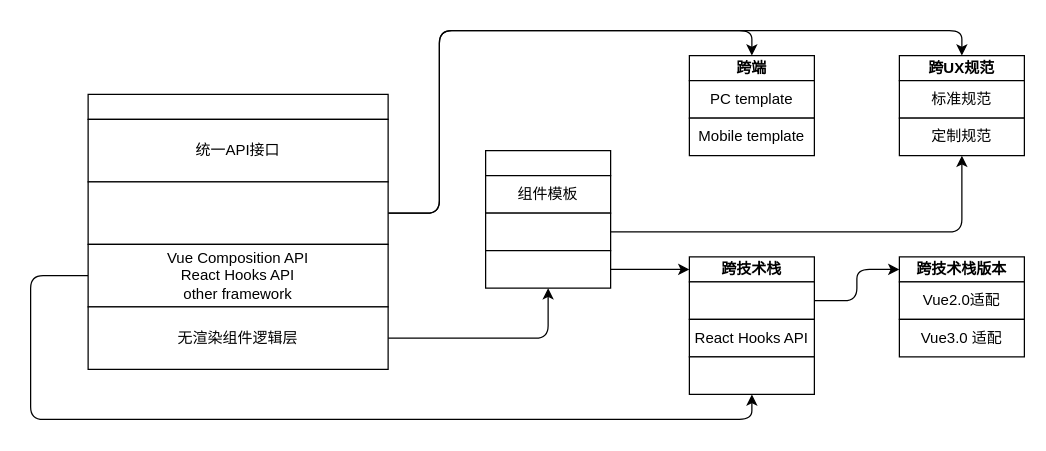
Some shapes in this 1046 by 451 pixel diagram are drawn without their labels. The box of each missing label's shape, as (x1, y1, x2, y2) in pixels:
other framework: (688, 356, 814, 394)
Vue Composition API: (688, 281, 814, 319)
不同交互规范: (87, 181, 388, 244)
组件库: (87, 93, 388, 119)
组件样式: (484, 212, 611, 251)
组件结构: (484, 149, 611, 176)
组件逻辑: (484, 249, 611, 288)
